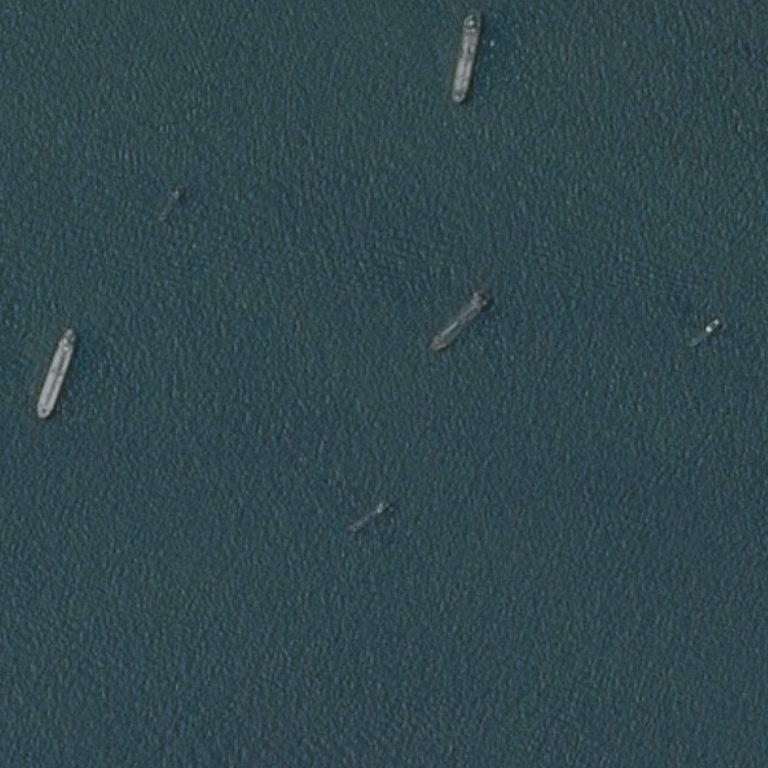ship: (427, 282, 495, 347), (349, 500, 392, 534), (35, 364, 80, 384), (448, 47, 486, 68), (704, 317, 722, 334), (465, 291, 472, 294), (429, 347, 433, 352), (39, 416, 44, 419), (491, 66, 494, 71), (456, 101, 460, 104), (717, 319, 720, 322), (464, 11, 467, 14), (351, 528, 353, 531), (383, 502, 388, 503), (693, 330, 696, 331), (76, 308, 78, 309), (67, 312, 68, 314), (390, 506, 390, 509), (705, 329, 707, 329), (482, 13, 482, 13)
